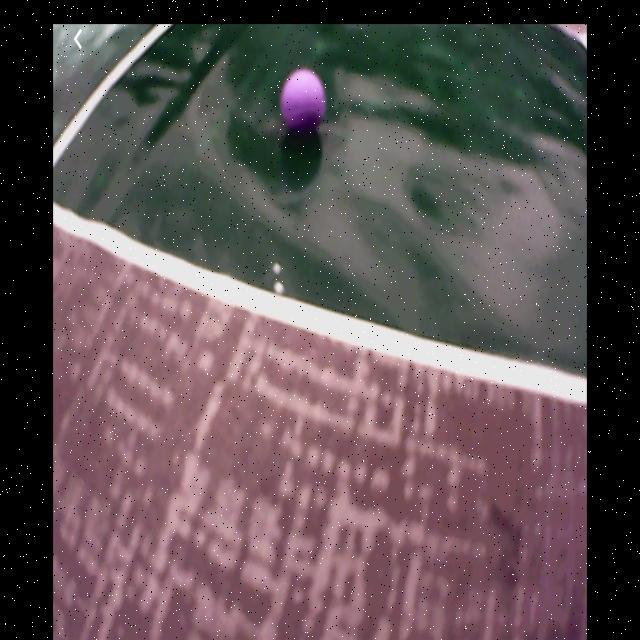ball: (282, 70, 329, 134)
